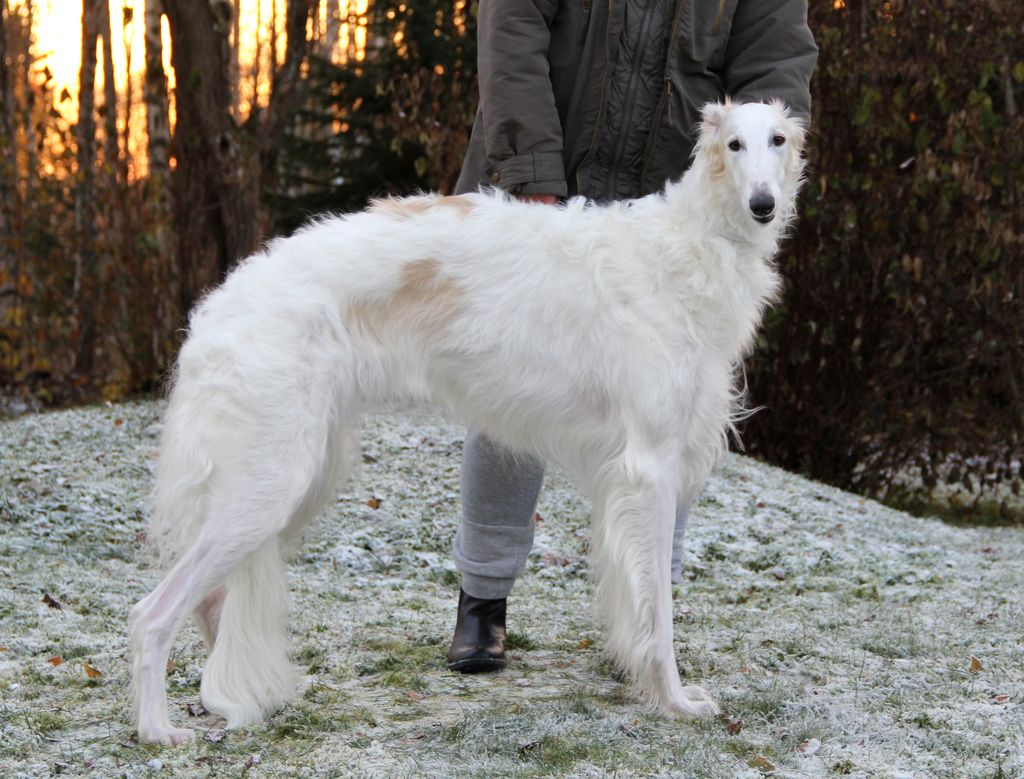borzoi: (111, 91, 855, 753)
